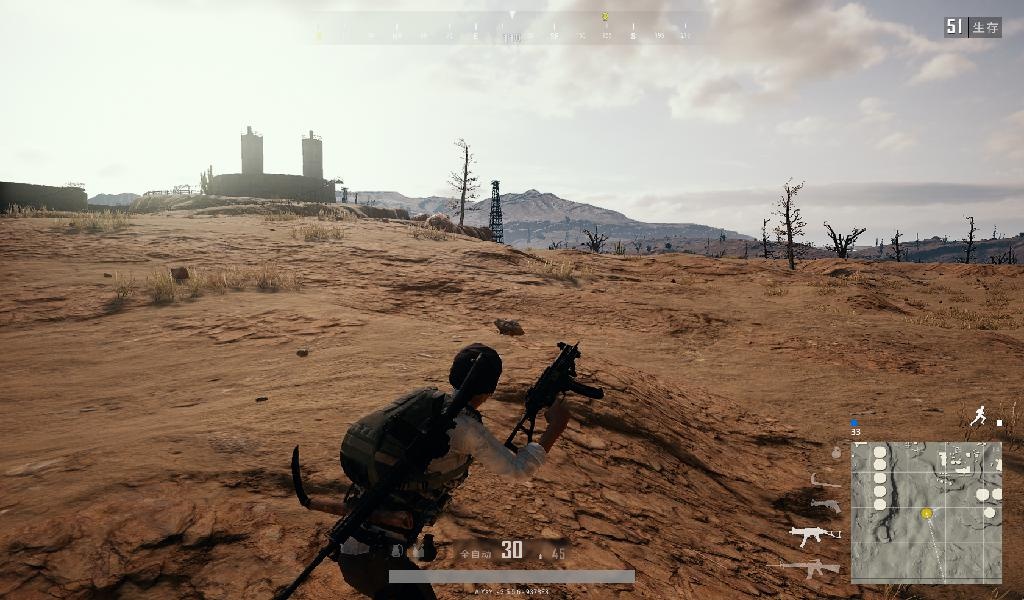Target Person: (288, 339, 607, 600)
